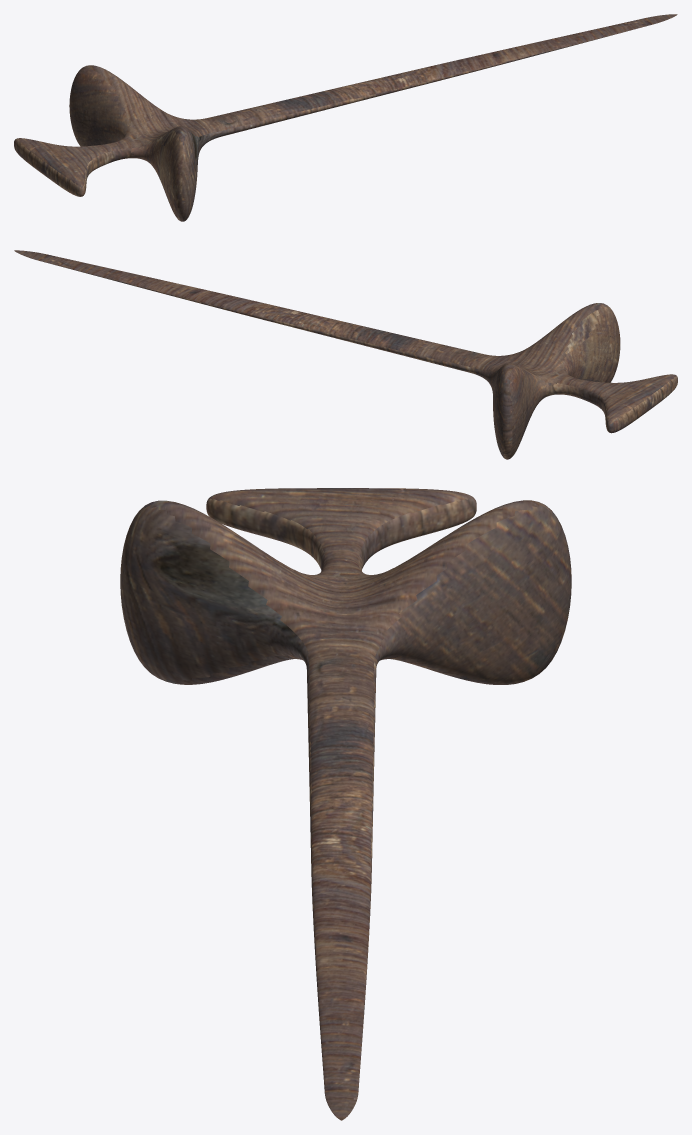
File: sward.glb
The picture shows the model from 3 angles, top to bottom: view 1: azimuth 30°, elevation 25°; view 2: azimuth 150°, elevation 25°; view 3: azimuth 270°, elevation 25°; orthographic projection. The views are drawn at different scales.
Visible parts, largest first — view 1: Cube_Cube.001; view 2: Cube_Cube.001; view 3: Cube_Cube.001.
Part boxes in pixels (x1,y1,x2,y2): Cube_Cube.001: (14,14,677,221); Cube_Cube.001: (14,250,677,459); Cube_Cube.001: (120,488,571,1120).
Bounding box in the file's own units: 35.45 × 4.81 × 10.92.
1 material, 1 textured.
